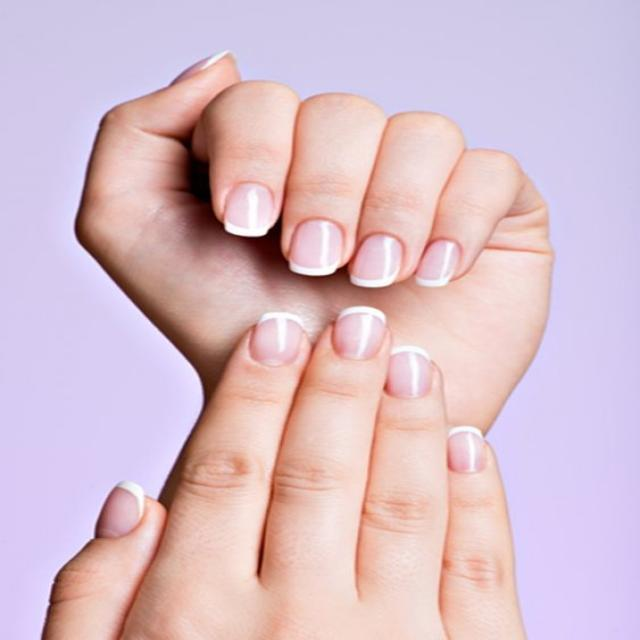Fingernail: (333, 306, 387, 361), (95, 482, 145, 541), (250, 313, 303, 368), (290, 219, 342, 275), (350, 233, 402, 288), (224, 183, 272, 236), (386, 347, 433, 399), (417, 239, 459, 287), (447, 426, 486, 475)
